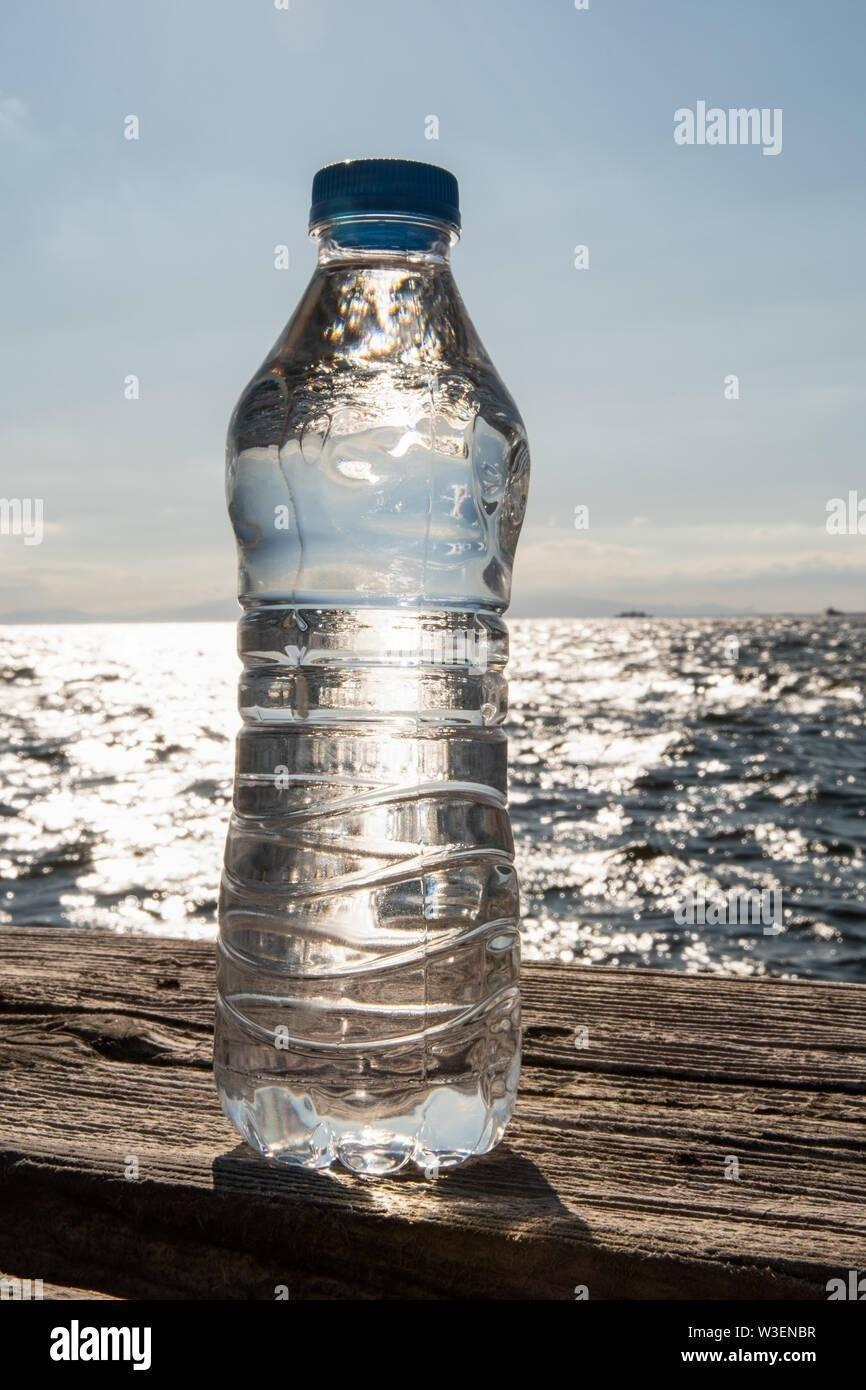bottle-plastic: (211, 145, 535, 1185)
